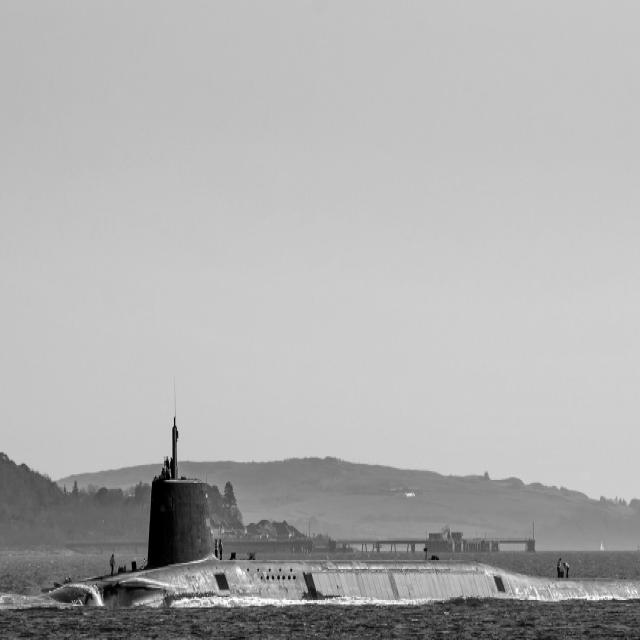submarine: (55, 408, 640, 607)
